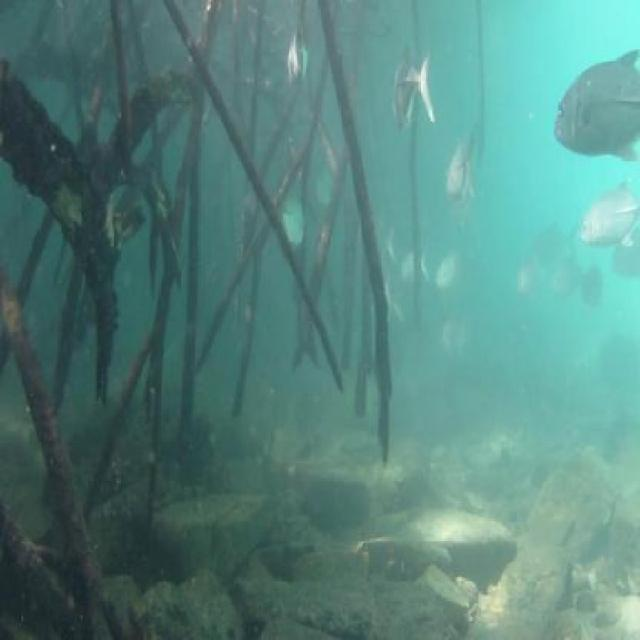Caranx_sexfasciatus_juvenile: (551, 46, 640, 169), (386, 40, 437, 142), (580, 178, 640, 260), (544, 255, 604, 317), (442, 129, 481, 217), (429, 239, 473, 303), (522, 224, 580, 270), (284, 10, 310, 104), (280, 182, 308, 266), (362, 218, 398, 278), (436, 312, 469, 373), (398, 238, 428, 300), (316, 153, 342, 222), (511, 258, 544, 312), (612, 231, 640, 291)
